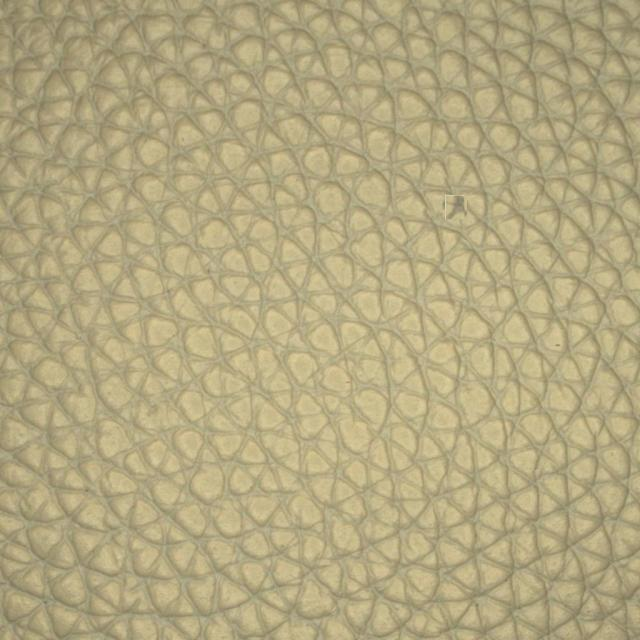pinhole: (364, 146, 544, 264)
